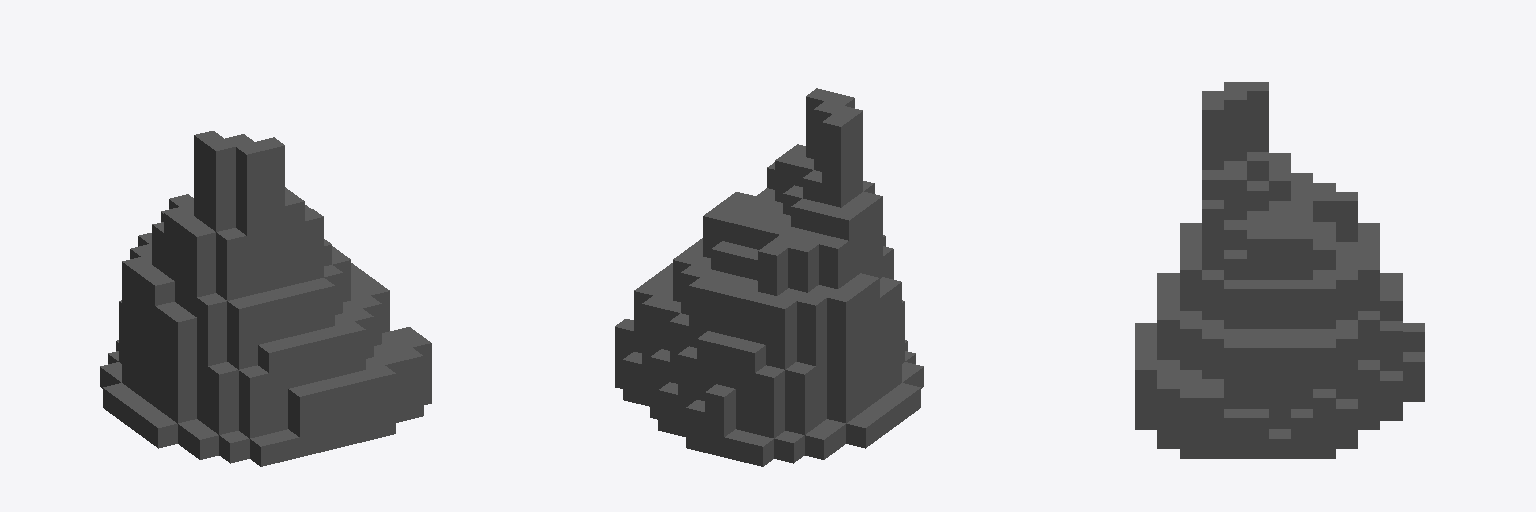
3 views of the same model, side by side, from view 1: azimuth 30°, elevation 25°; view 2: azimuth 150°, elevation 25°; view 3: azimuth 270°, elevation 25° (orthographic).
Parts seen in each view (by area): view 1: object 1; view 2: object 1; view 3: object 1.
Boxes of the visible parts, x1,y1,x2,y2 form: object 1: [100, 131, 431, 466]; object 1: [615, 88, 923, 466]; object 1: [1135, 82, 1424, 458].
Bounding box in the file's own units: 1.3 × 1.4 × 1.3.
Materials: 1 (1 with a texture image).